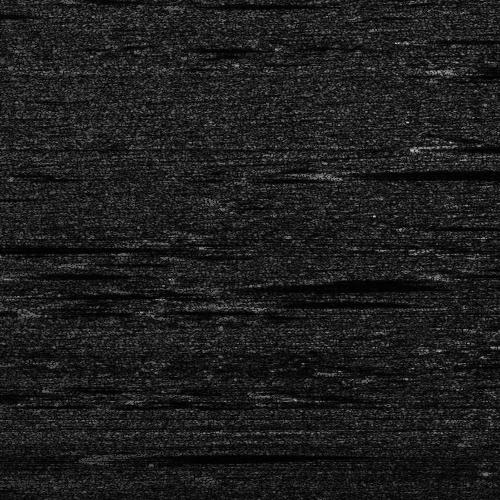rock: (78, 449, 171, 462), (209, 296, 302, 305), (191, 281, 254, 290), (407, 142, 460, 151), (294, 170, 367, 175), (229, 308, 270, 315), (0, 270, 32, 277), (169, 1, 200, 6)
shadow: (125, 449, 293, 462), (223, 281, 428, 290), (0, 241, 133, 254), (256, 296, 433, 305), (250, 308, 397, 315), (6, 270, 134, 277), (331, 170, 500, 175), (185, 1, 332, 6), (434, 142, 500, 151), (0, 8, 26, 17)
